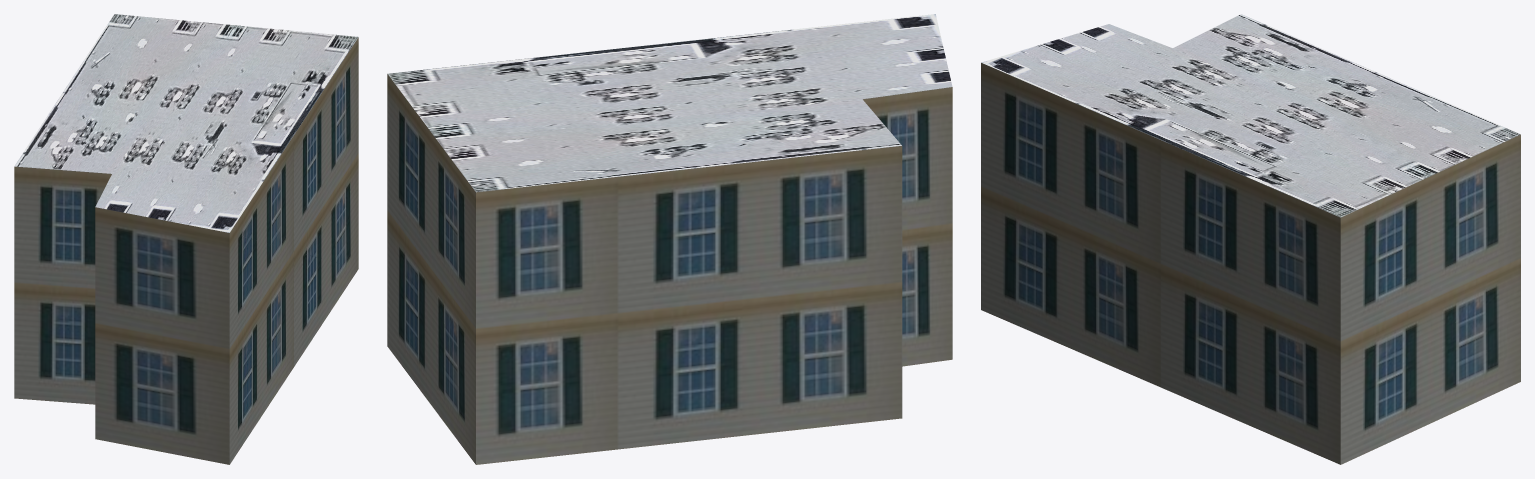
Rendered from ResTex__4913.fbx.
3 renders of one model, left to right at view 1: azimuth 30°, elevation 25°; view 2: azimuth 150°, elevation 25°; view 3: azimuth 270°, elevation 25°, orthographic. The views are drawn at different scales.
Parts seen in each view (by area): view 1: CityEngineMaterial_7_m, CityEngineMaterial_4_m; view 2: CityEngineMaterial_7_m, CityEngineMaterial_4_m; view 3: CityEngineMaterial_7_m, CityEngineMaterial_4_m.
Boxes of the visible parts, left/top/right/bottom form: CityEngineMaterial_7_m: left=14, top=37, right=358, bottom=464; CityEngineMaterial_4_m: left=14, top=14, right=358, bottom=232; CityEngineMaterial_7_m: left=387, top=74, right=952, bottom=464; CityEngineMaterial_4_m: left=388, top=14, right=952, bottom=192; CityEngineMaterial_7_m: left=981, top=63, right=1520, bottom=464; CityEngineMaterial_4_m: left=981, top=14, right=1520, bottom=217.
Bounding box in the file's own units: 10.59 × 6 × 11.87.
Materials: 2 (2 with a texture image).
